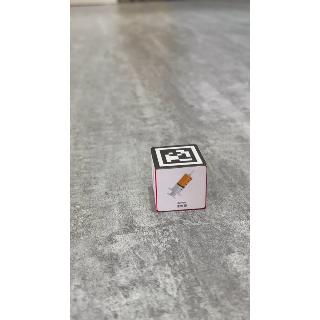Syringe: (156, 170, 211, 211)
